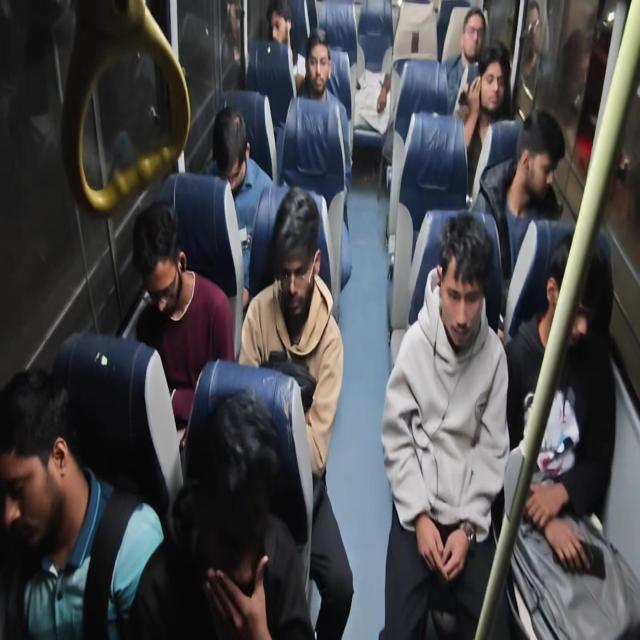person: (163, 381, 301, 640), (0, 364, 102, 622), (533, 226, 640, 392), (120, 219, 220, 386), (344, 23, 416, 179), (430, 224, 507, 362), (208, 116, 258, 226), (510, 123, 566, 216), (261, 228, 315, 322), (472, 47, 514, 116), (300, 44, 329, 101), (444, 14, 476, 49), (256, 11, 280, 49)
